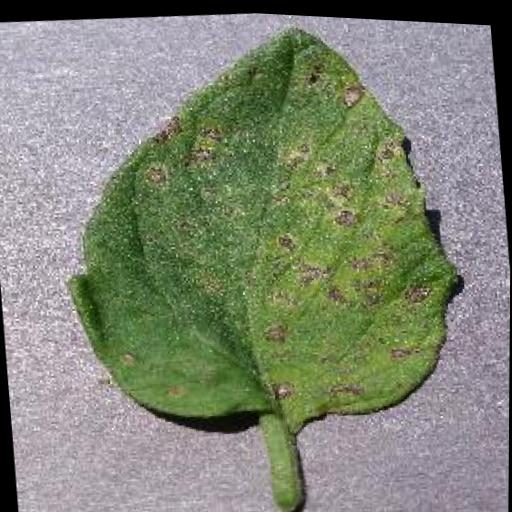Septoria: (39, 2, 474, 445)
